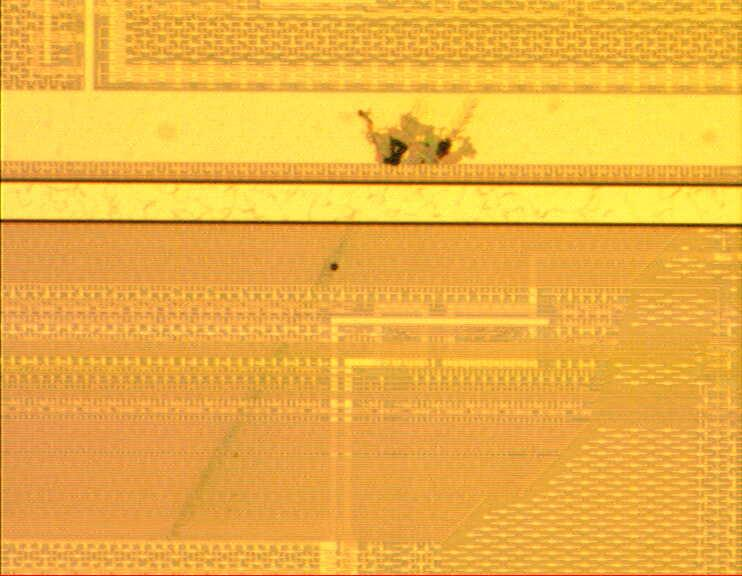SCRATCH: (139, 62, 518, 576)
